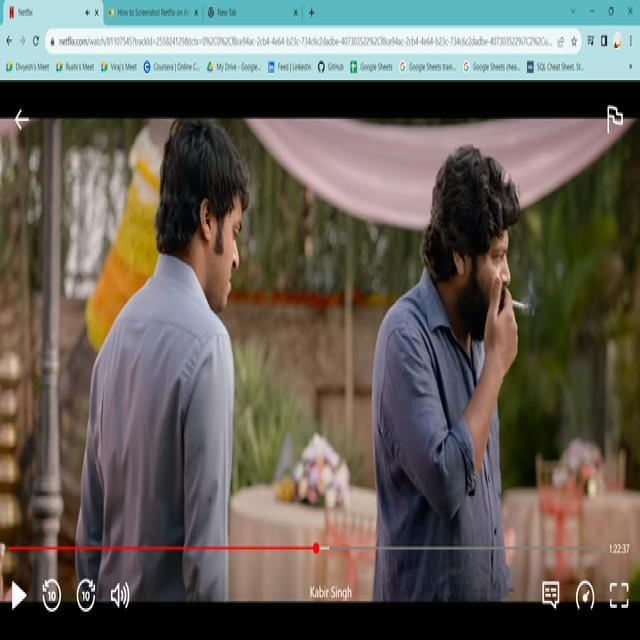smoking: (497, 278, 537, 318)
